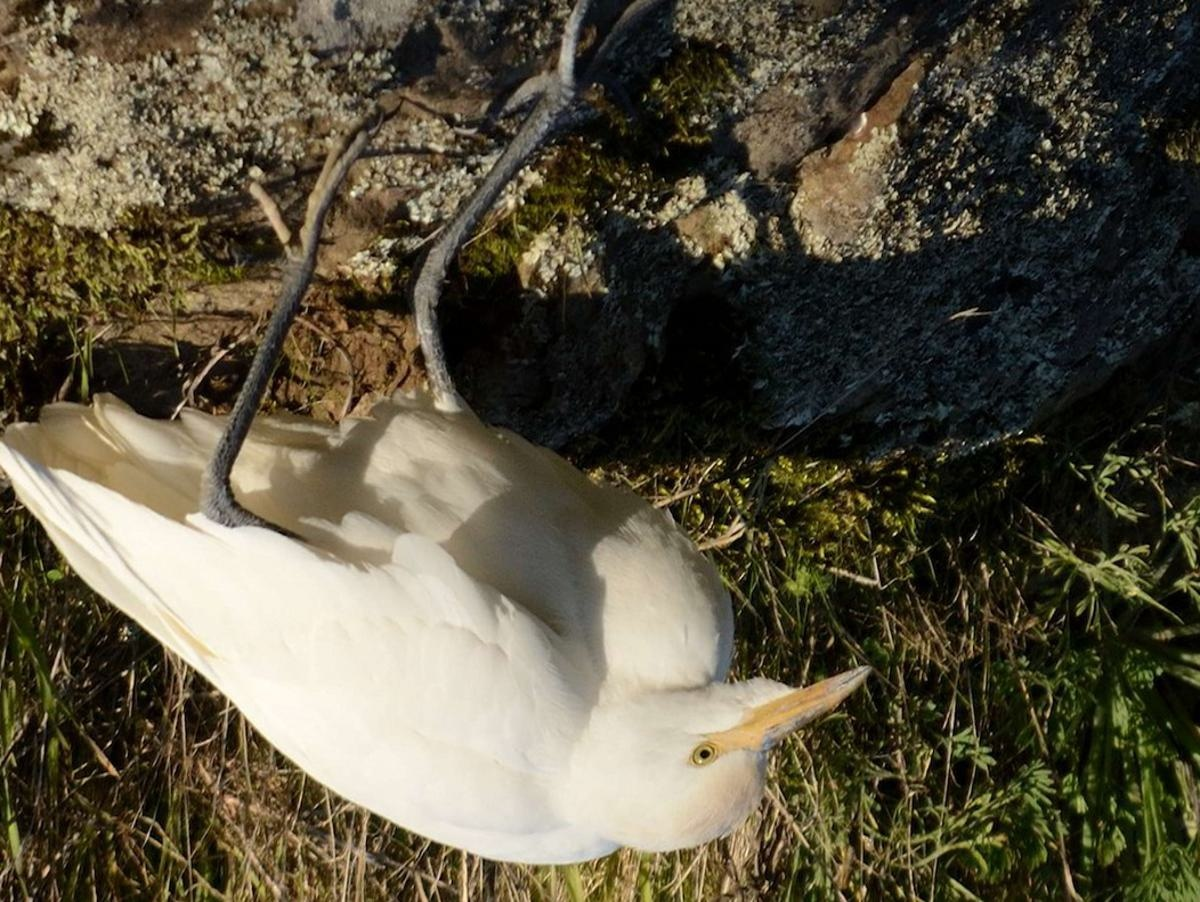egret: (14, 128, 850, 854)
